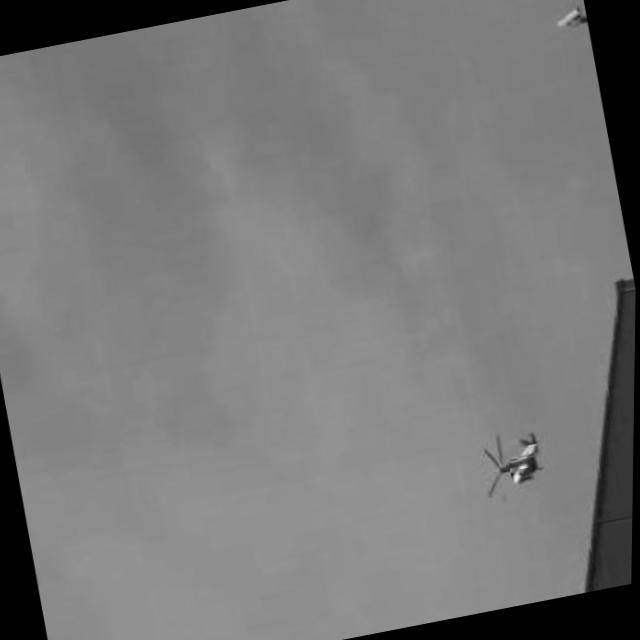helikopter: (472, 425, 557, 501)
